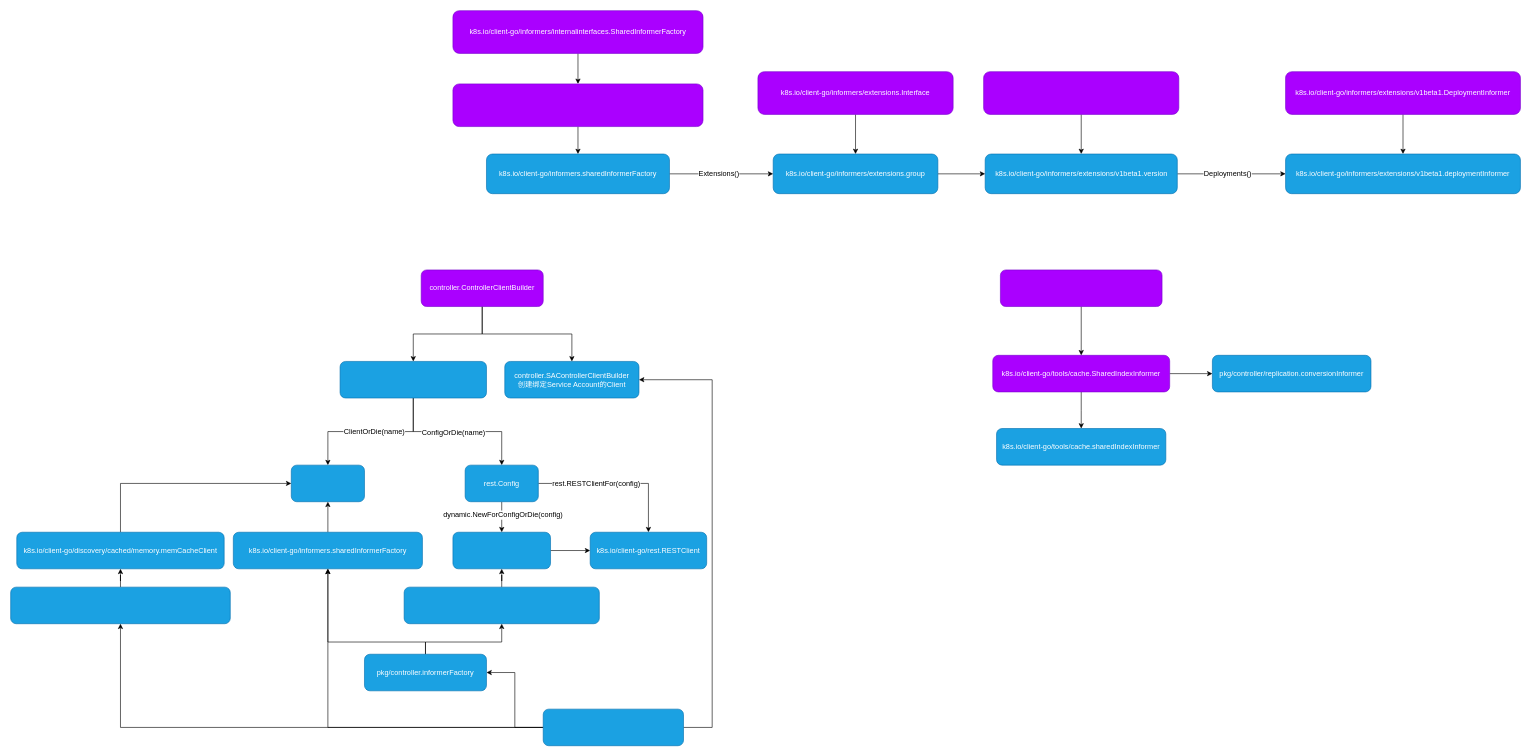
The diagram is 1531 pixels wide and 756 high, and some of its shapes have lost their labels. The shapes that lost their labels are listed below. From the top down, each one's box as (x1, y1, x2, y2) in pixels, then its label:
(452, 83, 703, 127): k8s.io/client-go/informers.SharedInformerFactory 创建各个接口组的Informer
(983, 71, 1179, 114): k8s.io/client-go/informers/extensions/v1beta1.Interface
(1000, 269, 1162, 307): k8s.io/client-go/tools/cache.SharedInformer
(339, 361, 486, 398): controller.SimpleControllerClientBuilder 创建绑定User Agent的CLient
(291, 465, 364, 502): kubernetes.Clientset
(452, 532, 551, 569): k8s.io/client-go/dynamic.dynamicClient
(10, 587, 230, 624): k8s.io/client-go/restmapper.DeferredDiscoveryRESTMapper
(404, 587, 599, 624): k8s.io/client-go/dynamic.dynamicSharedInformerFactory
(543, 709, 684, 746): app.ControllerContext
